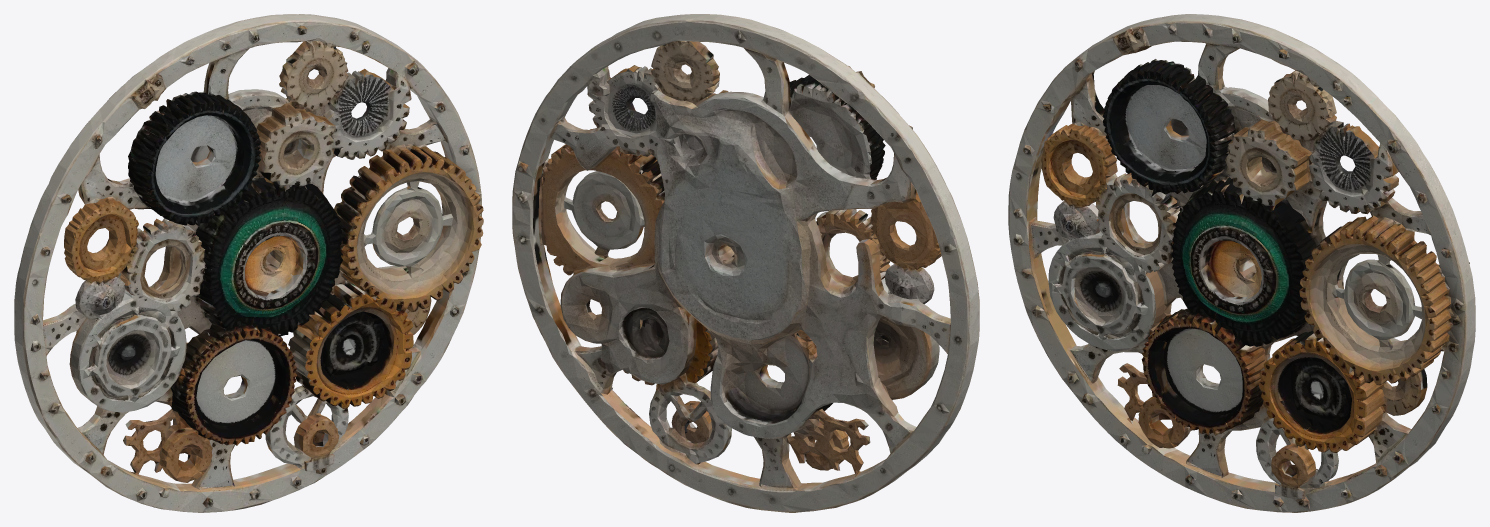
File: head (307).glb
The picture shows the model from 3 angles, left to right: view 1: azimuth 30°, elevation 25°; view 2: azimuth 150°, elevation 25°; view 3: azimuth 330°, elevation 25°; orthographic projection.
Visible parts, largest first — view 1: Hy21_Mesh.obj; view 2: Hy21_Mesh.obj; view 3: Hy21_Mesh.obj.
Part boxes in pixels (x1,y1,x2,y2): Hy21_Mesh.obj: (14,14,483,512); Hy21_Mesh.obj: (512,14,979,512); Hy21_Mesh.obj: (1008,14,1475,512).
Size of the model in its own units: 1.96 by 1.96 by 0.2331.
1 material, 1 textured.
